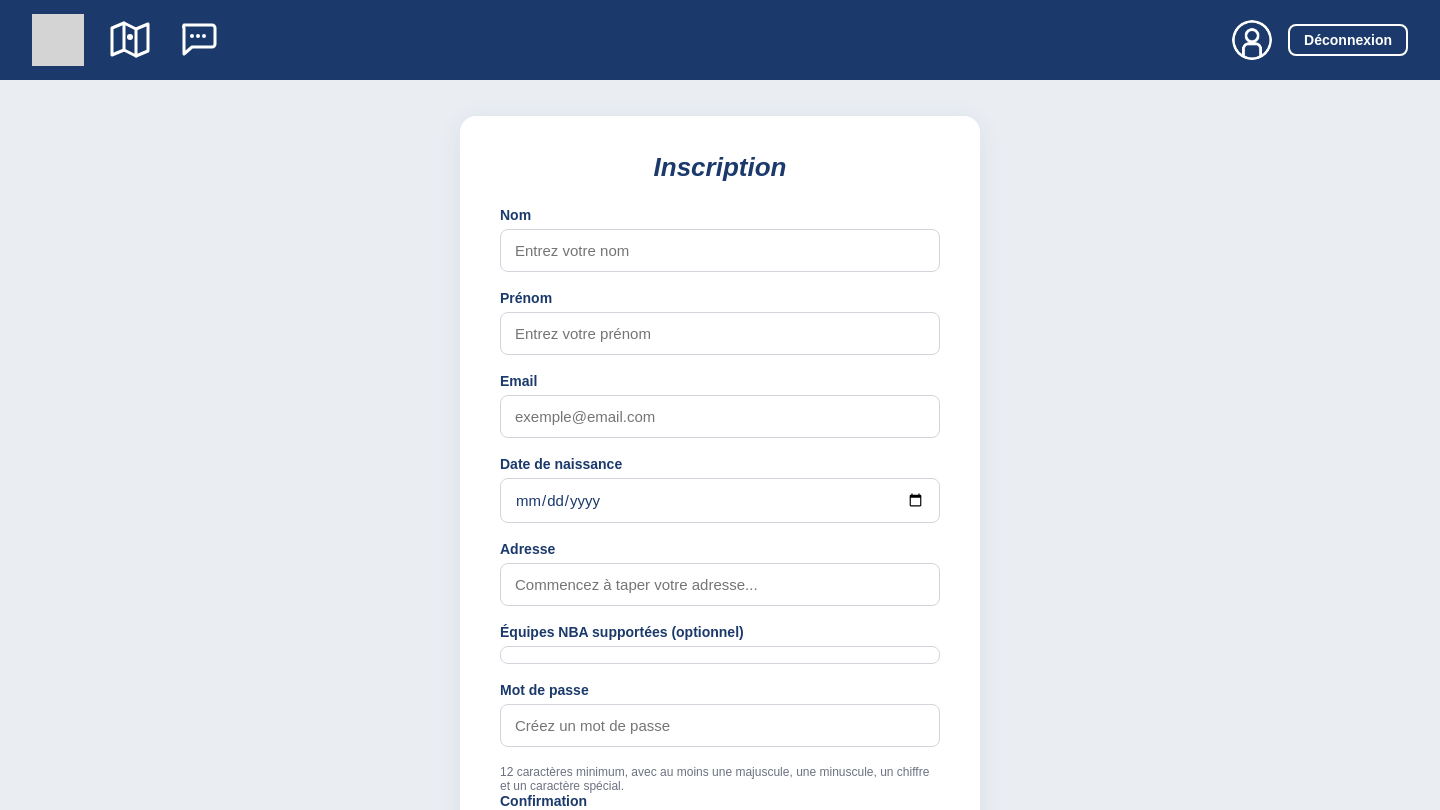
Scenario: RegisterPage › affiche une erreur si aucune adresse n'est sélectionnée
Type "Dupont" into the field with placeholder "Entrez votre nom". click: (720, 250)
box: [500, 229, 940, 272]
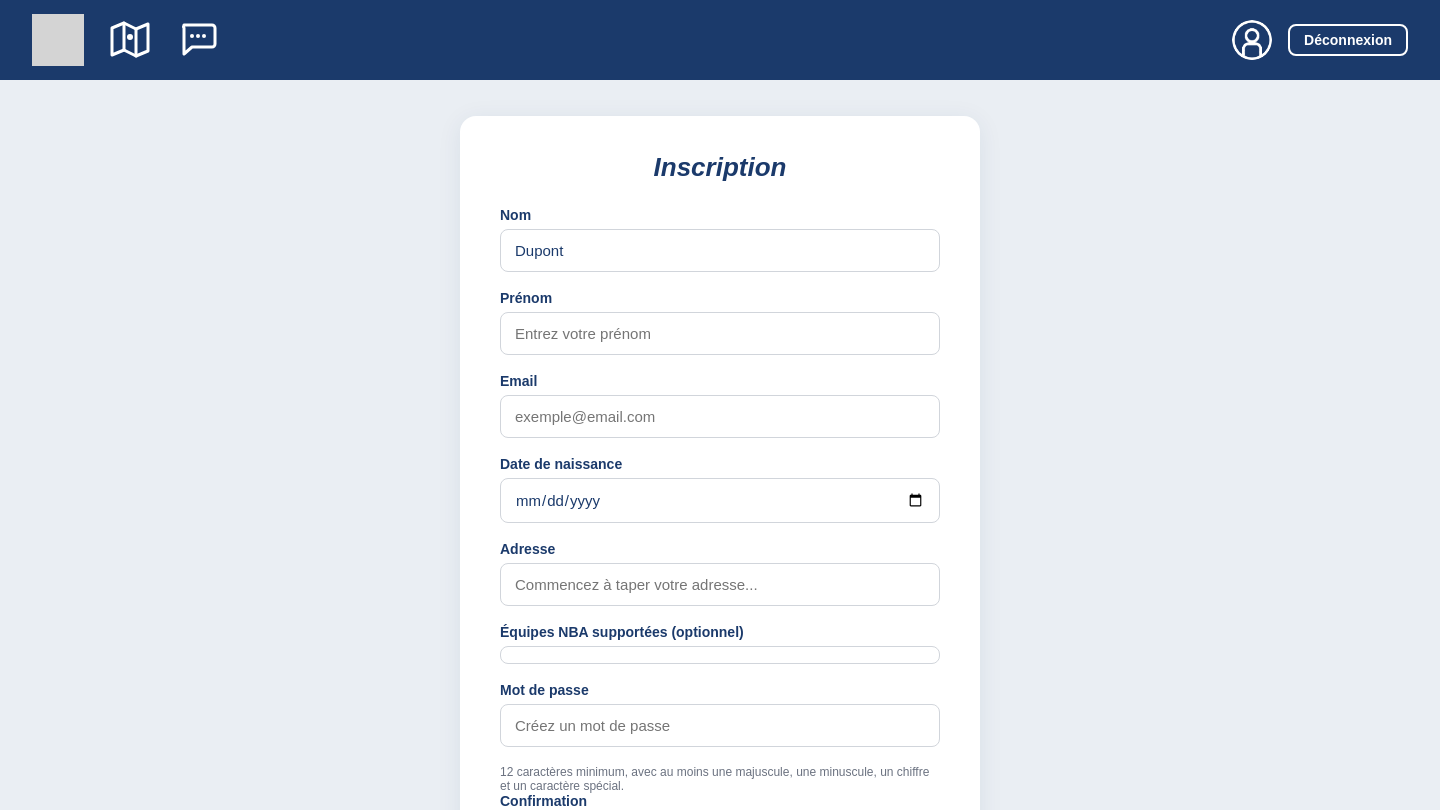
Type "Jean" into the field with placeholder "Entrez votre prénom". click: (720, 334)
box: [500, 312, 940, 355]
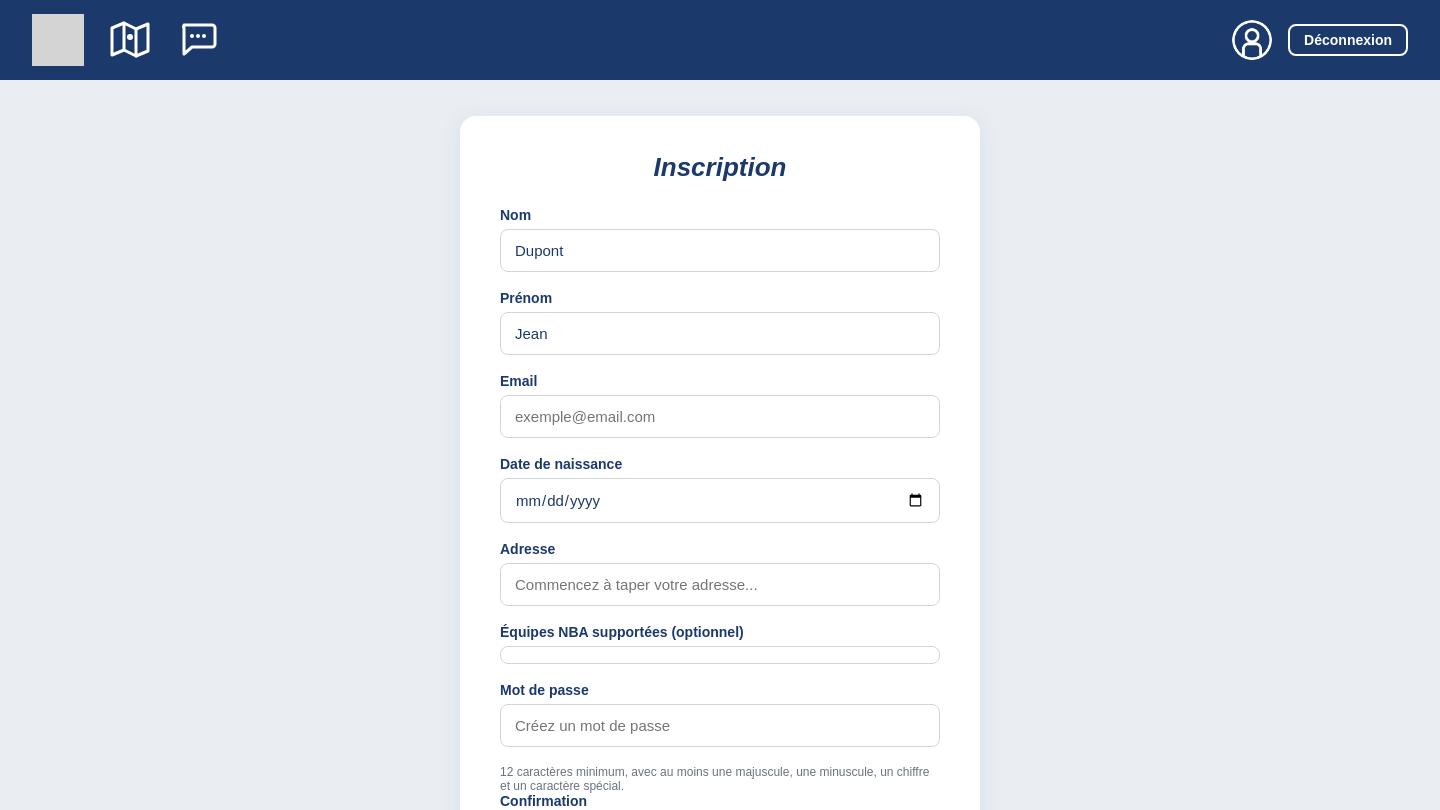
Type "a@b.com" into the field with placeholder "exemple@email.com". click: (720, 416)
box: [500, 395, 940, 438]
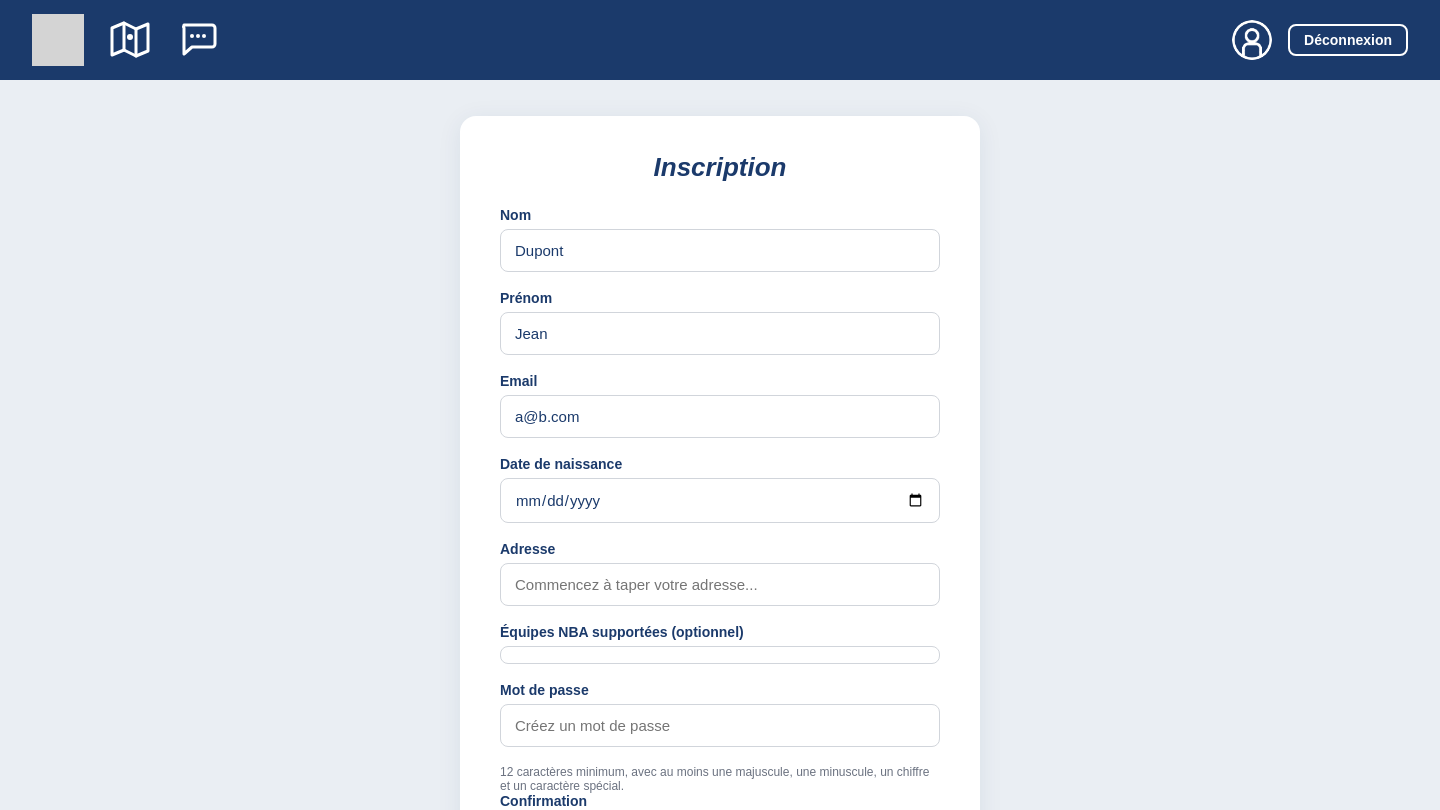
Type "Password123!@xx" into the password field with placeholder "Créez un mot de passe". click: (720, 726)
box: [500, 704, 940, 747]
(page scrolled)
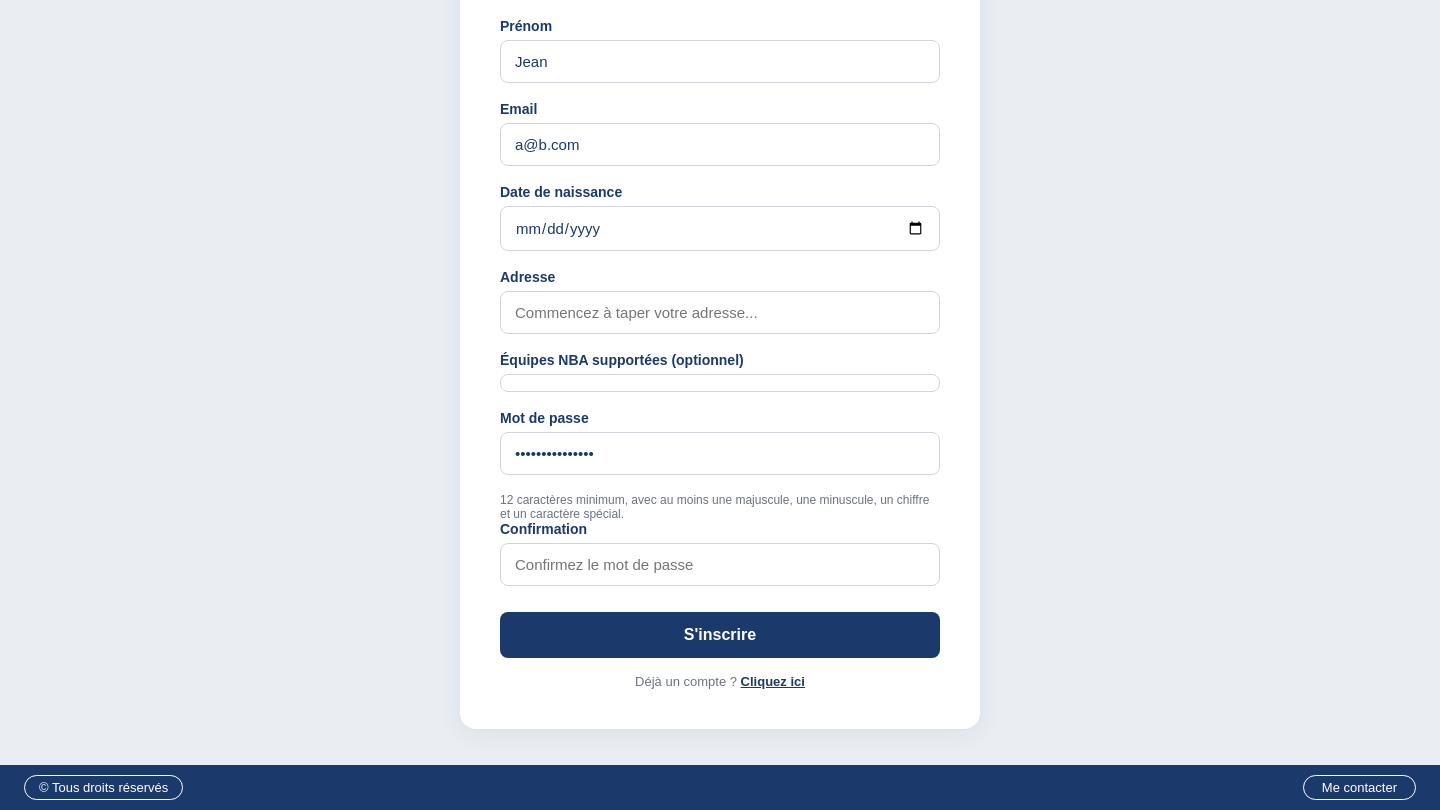
Type "Password123!@xx" into the password field with placeholder "Confirmez le mot de passe". click: (720, 564)
box: [500, 543, 940, 586]
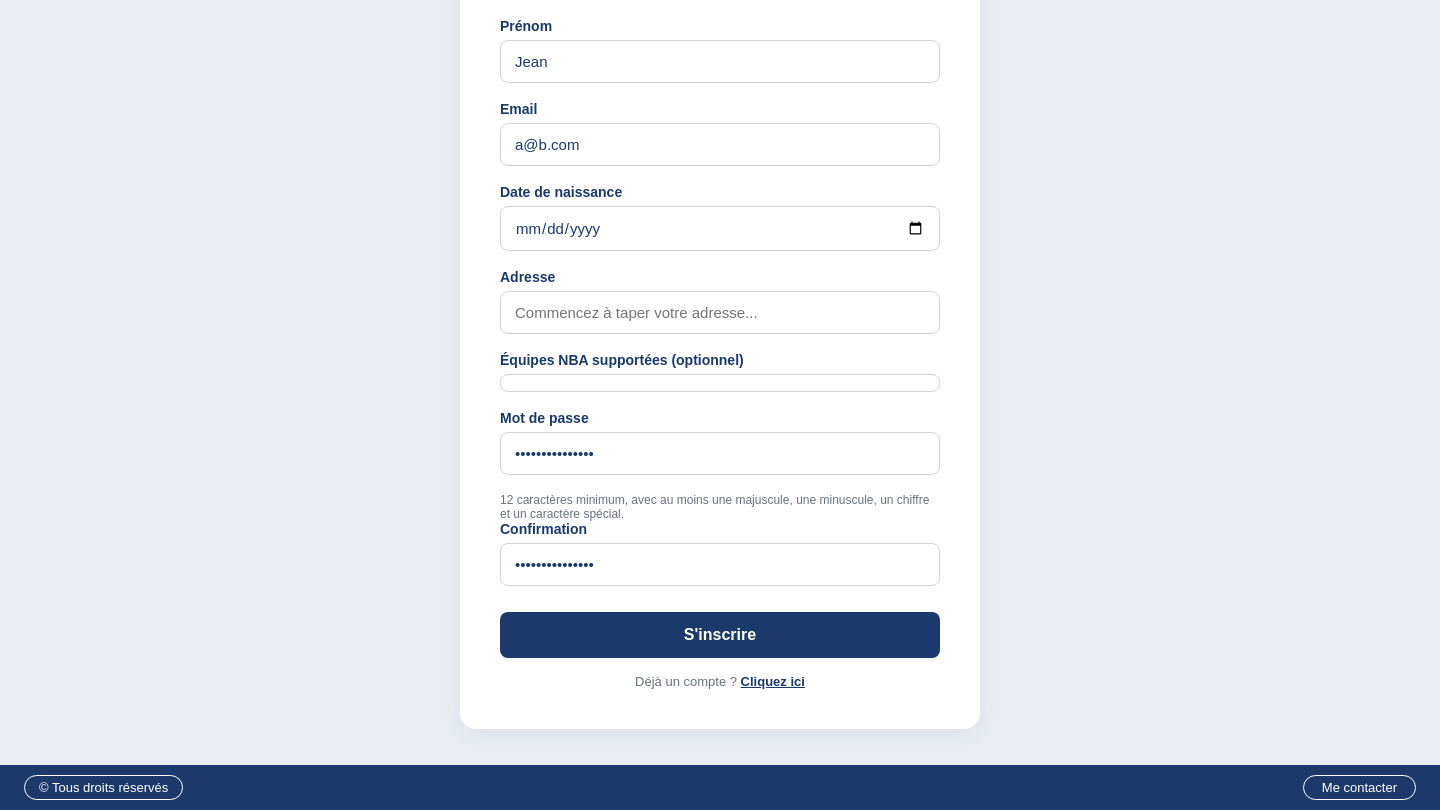
Click the button "S'inscrire". click: (720, 635)
box: [500, 612, 940, 658]
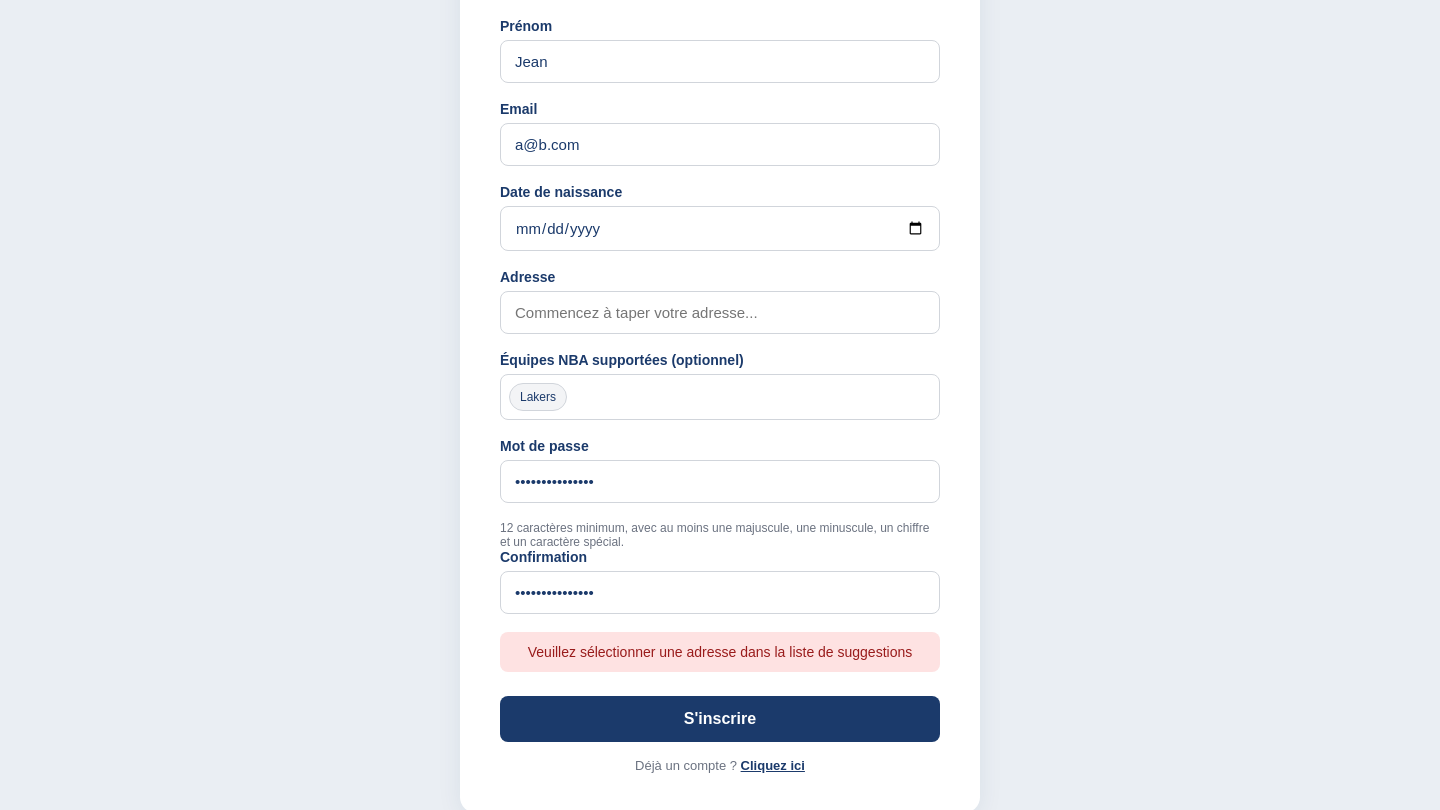
Result: the text "sélectionner une adresse" is shown at [528, 644, 912, 660]
